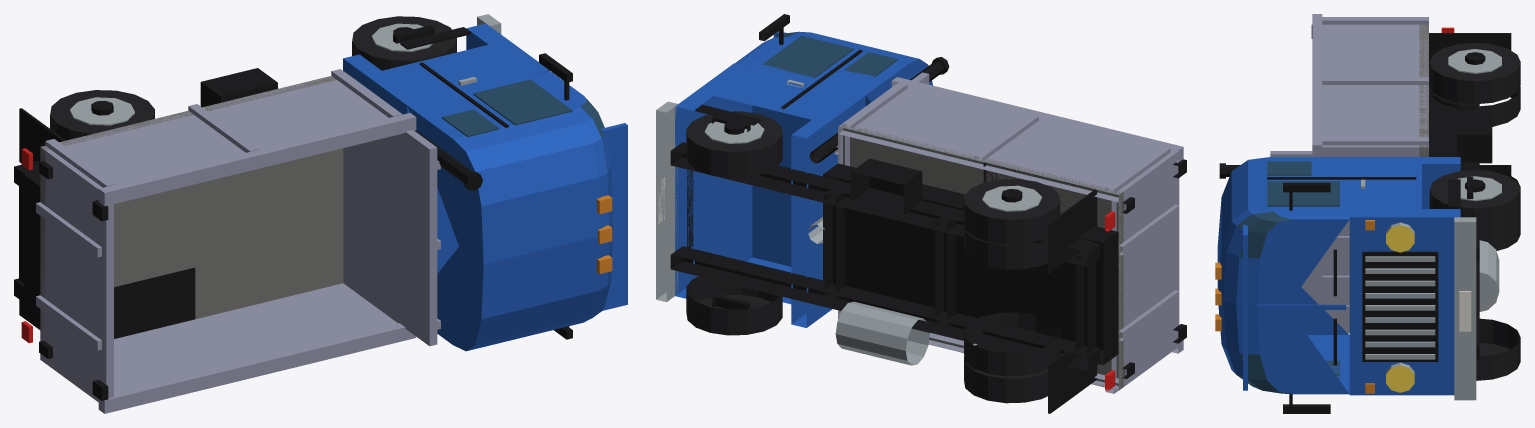
File: empty.glb
3 views of the same model, side by side, from view 1: azimuth 30°, elevation 25°; view 2: azimuth 150°, elevation 25°; view 3: azimuth 270°, elevation 25° (orthographic). The views are drawn at different scales.
Parts seen in each view (by area): view 1: empty_bed, empty_cab_upper, empty_headboard, empty_cab_arch, empty_rear_guard-1, empty_rear_out1, empty_front1, empty_visor, empty_side_window1, empty_subframe, empty_cab_back, empty_battery_box (+5 smaller); view 2: empty_bed, empty_subframe, empty_cab_arch, empty_chassis-1, empty_cab_front, empty_chassis1, empty_cab_back, empty_rear_out1, empty_front1, empty_cab_upper, empty_fuel_tank, empty_front-1 (+15 smaller); view 3: empty_cab_upper, empty_bed, empty_cab_front, empty_grille, empty_rear_out1, empty_bumper, empty_front1, empty_cab_arch, empty_front-1, empty_battery_box, empty_subframe, empty_cab_back (+27 smaller).
Boxes of the visible parts, bbox=[...] form: empty_bed: bbox=[36, 69, 416, 413]; empty_cab_upper: bbox=[407, 72, 613, 351]; empty_headboard: bbox=[404, 130, 437, 346]; empty_cab_arch: bbox=[382, 44, 530, 273]; empty_rear_guard-1: bbox=[114, 267, 195, 338]; empty_rear_out1: bbox=[50, 90, 154, 140]; empty_front1: bbox=[352, 16, 456, 70]; empty_visor: bbox=[601, 123, 627, 310]; empty_side_window1: bbox=[473, 79, 572, 125]; empty_subframe: bbox=[23, 171, 40, 319]; empty_cab_back: bbox=[343, 54, 423, 114]; empty_battery_box: bbox=[200, 68, 277, 107]; empty_bed: bbox=[838, 77, 1183, 393]; empty_subframe: bbox=[823, 163, 1118, 365]; empty_cab_arch: bbox=[713, 67, 849, 304]; empty_chassis-1: bbox=[670, 246, 1100, 371]; empty_cab_front: bbox=[675, 63, 752, 298]; empty_chassis1: bbox=[670, 142, 1100, 267]; empty_cab_back: bbox=[791, 91, 865, 327]; empty_rear_out1: bbox=[964, 179, 1060, 244]; empty_front1: bbox=[686, 111, 782, 177]; empty_cab_upper: bbox=[735, 31, 932, 105]; empty_fuel_tank: bbox=[835, 301, 929, 365]; empty_front-1: bbox=[686, 276, 782, 335]; empty_cab_upper: bbox=[1217, 157, 1349, 394]; empty_bed: bbox=[1312, 14, 1428, 333]; empty_cab_front: bbox=[1349, 209, 1460, 395]; empty_grille: bbox=[1362, 251, 1438, 361]; empty_rear_out1: bbox=[1429, 42, 1520, 104]; empty_bumper: bbox=[1454, 217, 1476, 400]; empty_front1: bbox=[1429, 170, 1520, 232]; empty_cab_arch: bbox=[1349, 164, 1421, 208]; empty_front-1: bbox=[1476, 318, 1520, 380]; empty_battery_box: bbox=[1457, 110, 1492, 163]; empty_subframe: bbox=[1429, 65, 1457, 156]; empty_cab_back: bbox=[1349, 157, 1460, 208].
Bounding box in the file's own units: 7.65 × 3.98 × 4.82.
